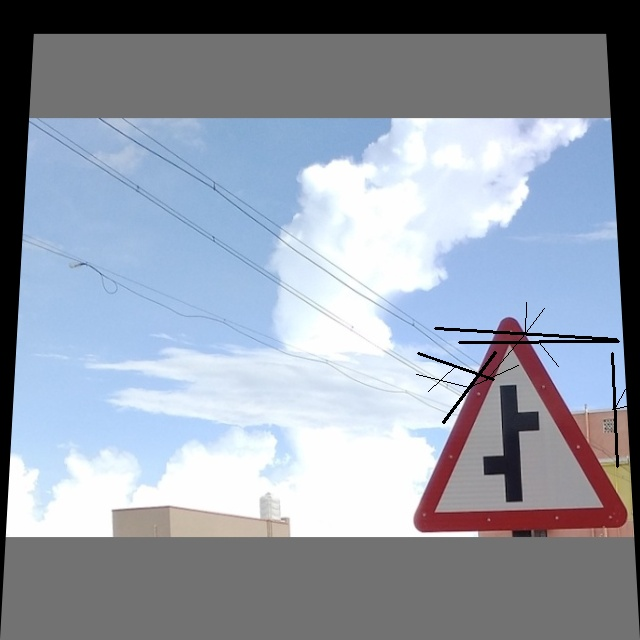Staggered_Intersection: (397, 318, 623, 524)
